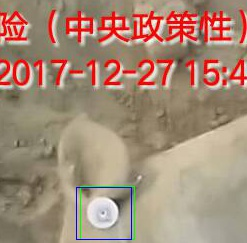text: (80, 186, 134, 239)
